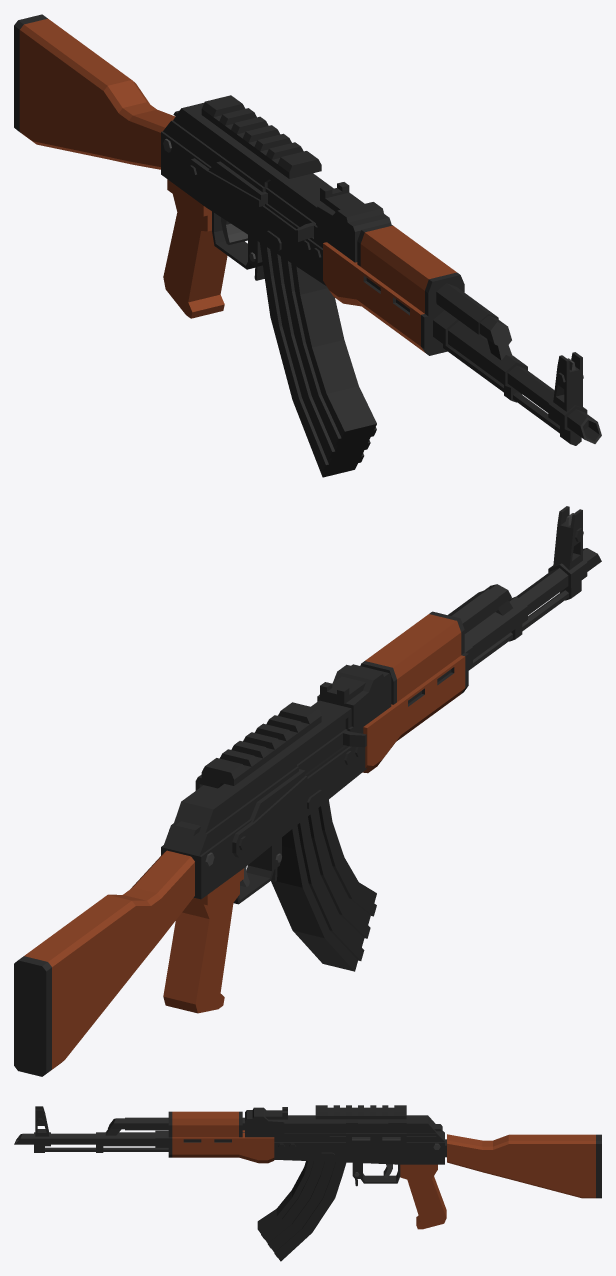
3 renders of one model, top to bottom at view 1: azimuth 30°, elevation 25°; view 2: azimuth 150°, elevation 25°; view 3: azimuth 270°, elevation 25°, orthographic. The views are drawn at different scales.
Parts seen in each view (by area): view 1: AR_B_Receiver, AR_B_Stock, AR_B_Mag, AR_B_BarrelGuard, AR_B_Barrel, AR_B_Grip, AR_B_Rail; view 2: AR_B_Receiver, AR_B_Stock, AR_B_Mag, AR_B_BarrelGuard, AR_B_Barrel, AR_B_Grip, AR_B_Rail; view 3: AR_B_Receiver, AR_B_Stock, AR_B_Mag, AR_B_BarrelGuard, AR_B_Barrel, AR_B_Rail, AR_B_Grip.
Boxes of the visible parts, x1=… form: AR_B_Receiver: x1=161, y1=103, x2=391, y2=285; AR_B_Stock: x1=14, y1=14, x2=175, y2=169; AR_B_Mag: x1=260, y1=243, x2=376, y2=477; AR_B_BarrelGuard: x1=323, y1=223, x2=464, y2=355; AR_B_Barrel: x1=433, y1=283, x2=601, y2=445; AR_B_Grip: x1=163, y1=179, x2=227, y2=318; AR_B_Rail: x1=201, y1=95, x2=321, y2=178; AR_B_Receiver: x1=161, y1=664, x2=391, y2=904; AR_B_Stock: x1=14, y1=850, x2=194, y2=1076; AR_B_Mag: x1=271, y1=799, x2=376, y2=971; AR_B_BarrelGuard: x1=360, y1=611, x2=468, y2=773; AR_B_Barrel: x1=448, y1=506, x2=601, y2=670; AR_B_Grip: x1=163, y1=868, x2=243, y2=1013; AR_B_Rail: x1=195, y1=702, x2=321, y2=790; AR_B_Receiver: x1=245, y1=1107, x2=446, y2=1186; AR_B_Stock: x1=447, y1=1134, x2=601, y2=1198; AR_B_Mag: x1=257, y1=1161, x2=346, y2=1261; AR_B_BarrelGuard: x1=168, y1=1111, x2=274, y2=1163; AR_B_Barrel: x1=14, y1=1106, x2=244, y2=1152; AR_B_Rail: x1=315, y1=1105, x2=406, y2=1143; AR_B_Grip: x1=400, y1=1164, x2=446, y2=1229.
Bounding box in the file's own units: 0.295 × 1.36 × 4.84.
